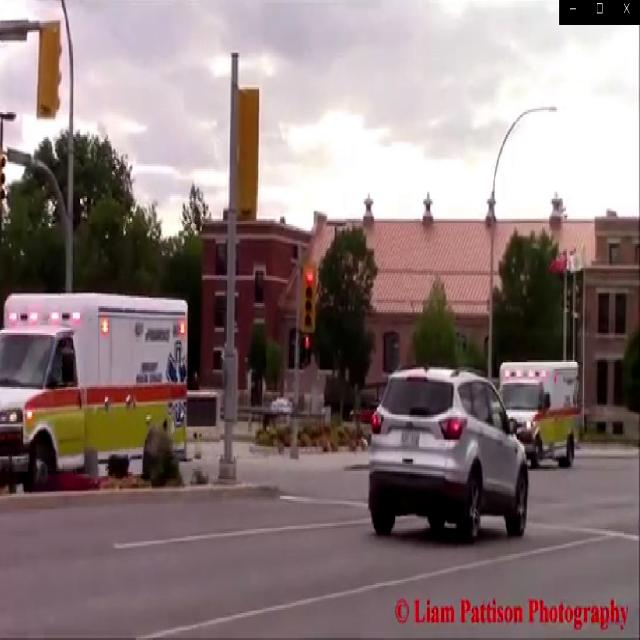emergency: (0, 284, 194, 493), (493, 353, 588, 475)
